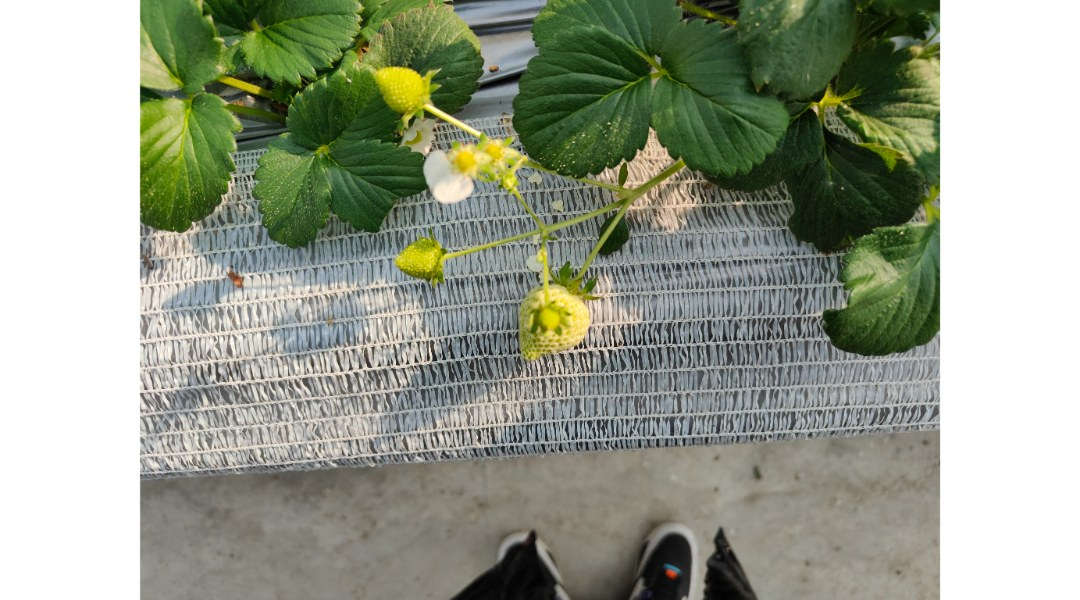berry: (521, 265, 609, 370), (371, 52, 433, 127), (384, 238, 450, 297), (530, 299, 573, 348)
flower: (423, 144, 506, 201)
strain: (431, 230, 540, 275), (586, 202, 632, 283), (423, 106, 503, 142), (632, 162, 678, 200), (540, 164, 615, 187), (552, 201, 617, 225)
